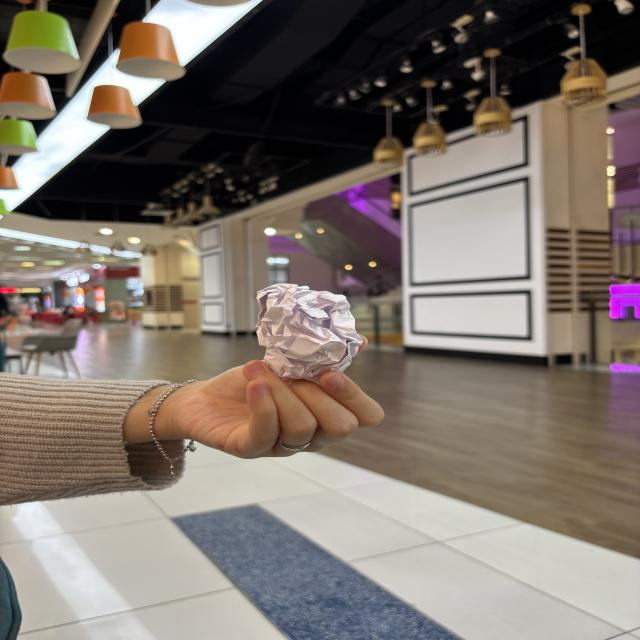crumpled_paper: (248, 280, 374, 385)
